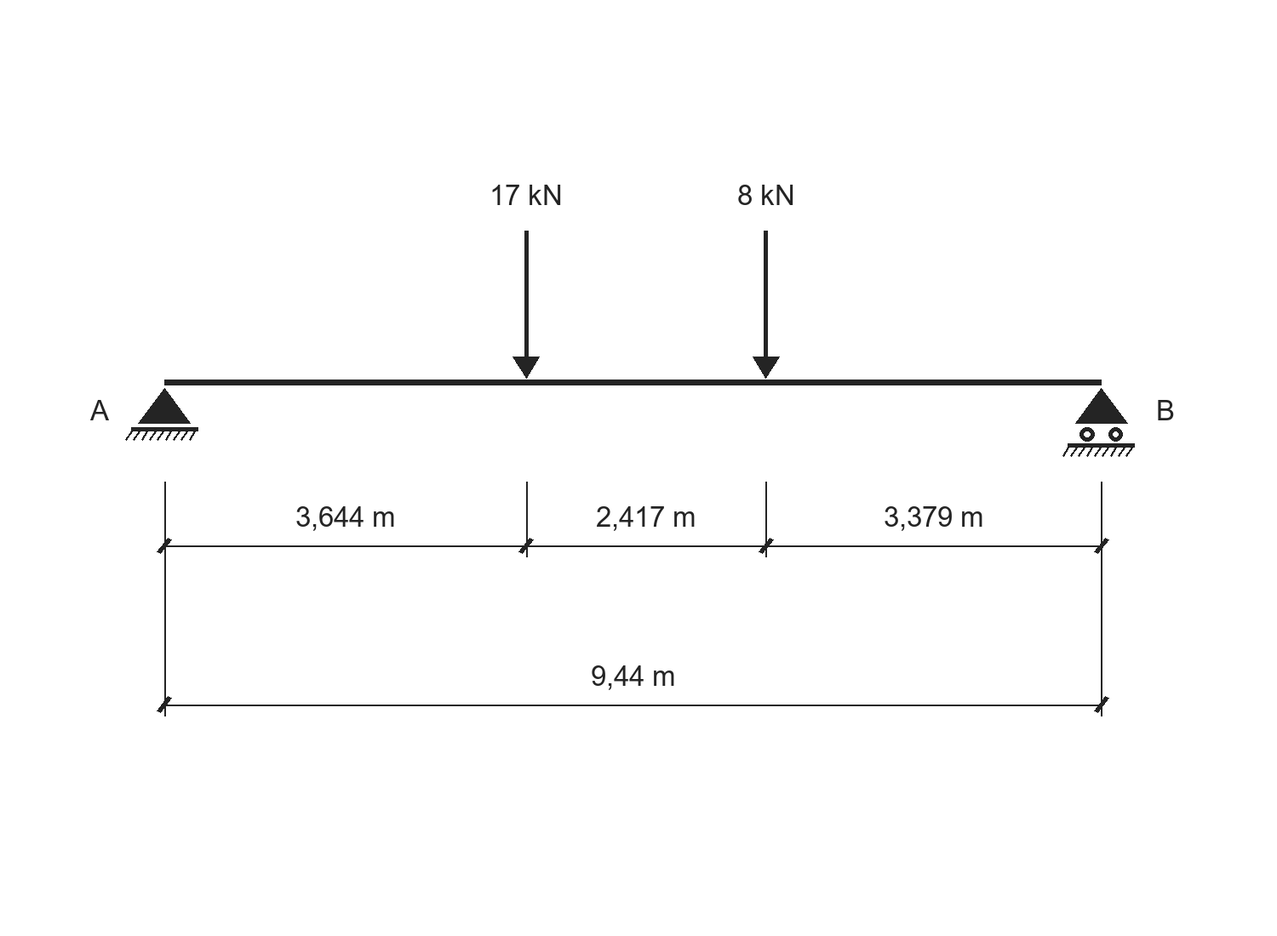pin_support: (125, 388, 198, 441)
point_load: (513, 231, 540, 379), (753, 231, 780, 379)
roller_support: (1062, 388, 1135, 457)
